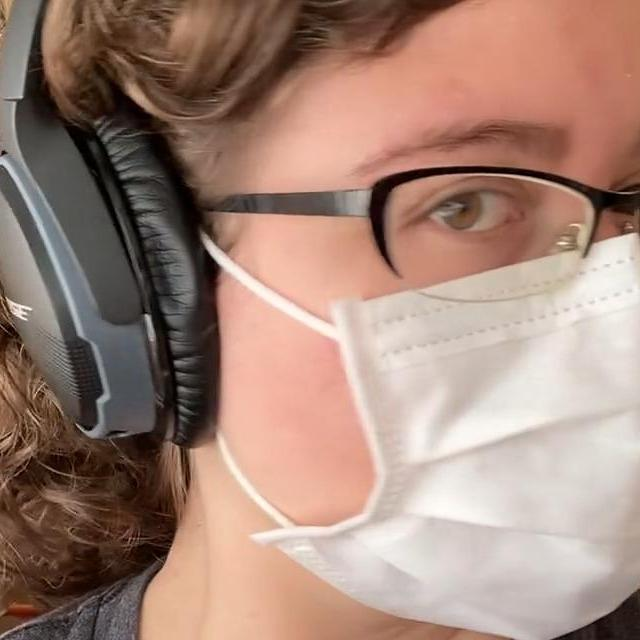Mask: (174, 233, 640, 640)
NO-Hardhat: (47, 0, 640, 107)
Person: (0, 0, 640, 640)
